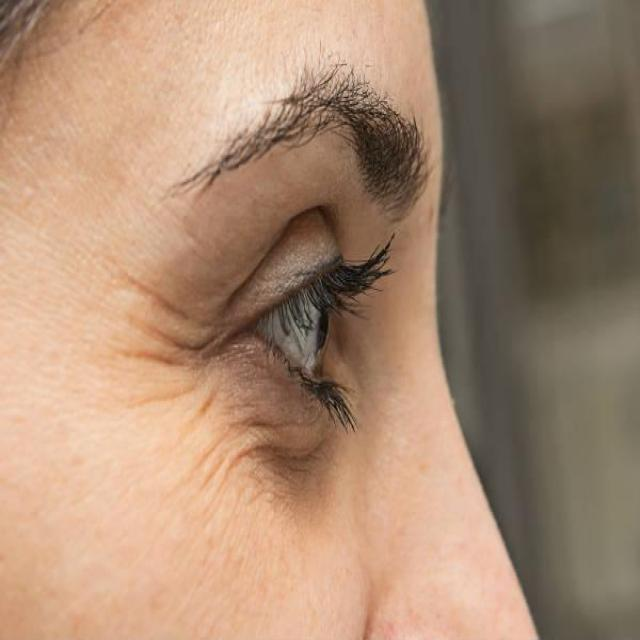Wrinkles: (175, 410, 331, 521), (111, 275, 214, 410)
